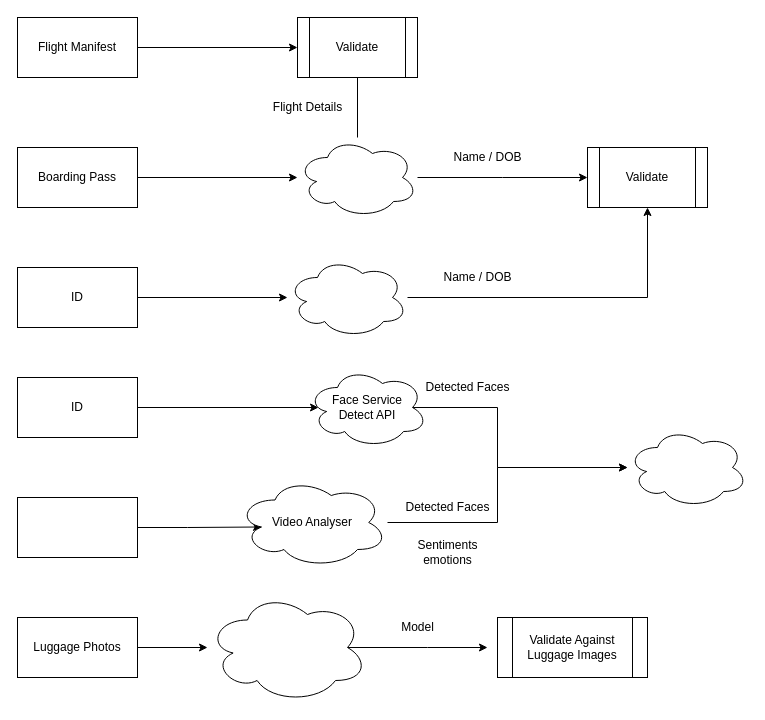
The diagram is 765 pixels wide and 720 high, and some of its shapes have lost their labels. Each missing label, with the box of its shape:
30 Sec Video: (16, 496, 138, 558)
Azure Custom Vision Service: (206, 592, 368, 702)
Custom Form Recogniser: (296, 136, 418, 218)
Face Service Verify API: (626, 426, 748, 508)
Form Recogniser: (286, 256, 408, 338)
